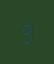nine: (19, 20, 33, 43)
